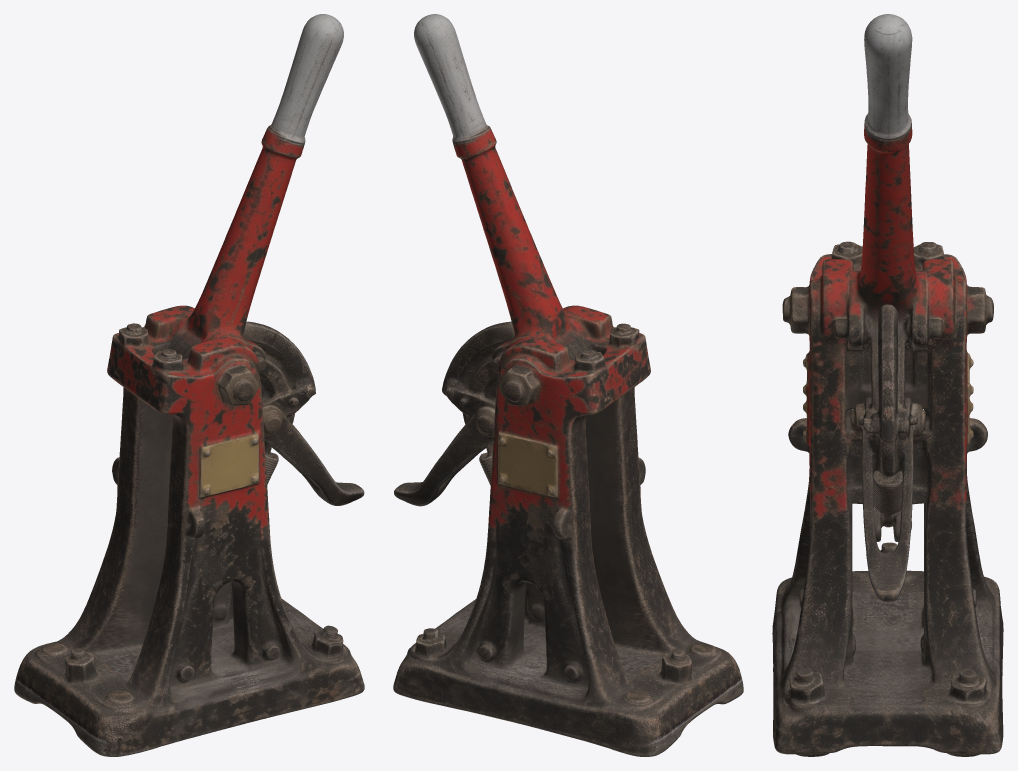
File: prop_lever_14.glb
3 views of the same model, side by side, from view 1: azimuth 30°, elevation 25°; view 2: azimuth 150°, elevation 25°; view 3: azimuth 270°, elevation 25° (orthographic). The views are drawn at different scales.
Size of the model in its own units: 0.9454 by 1.9 by 0.5319.
Materials: 1 (1 with a texture image).
